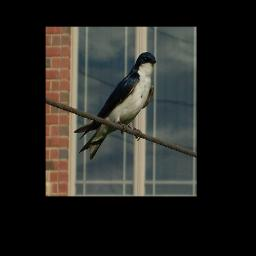Swallow: (73, 51, 157, 161)
